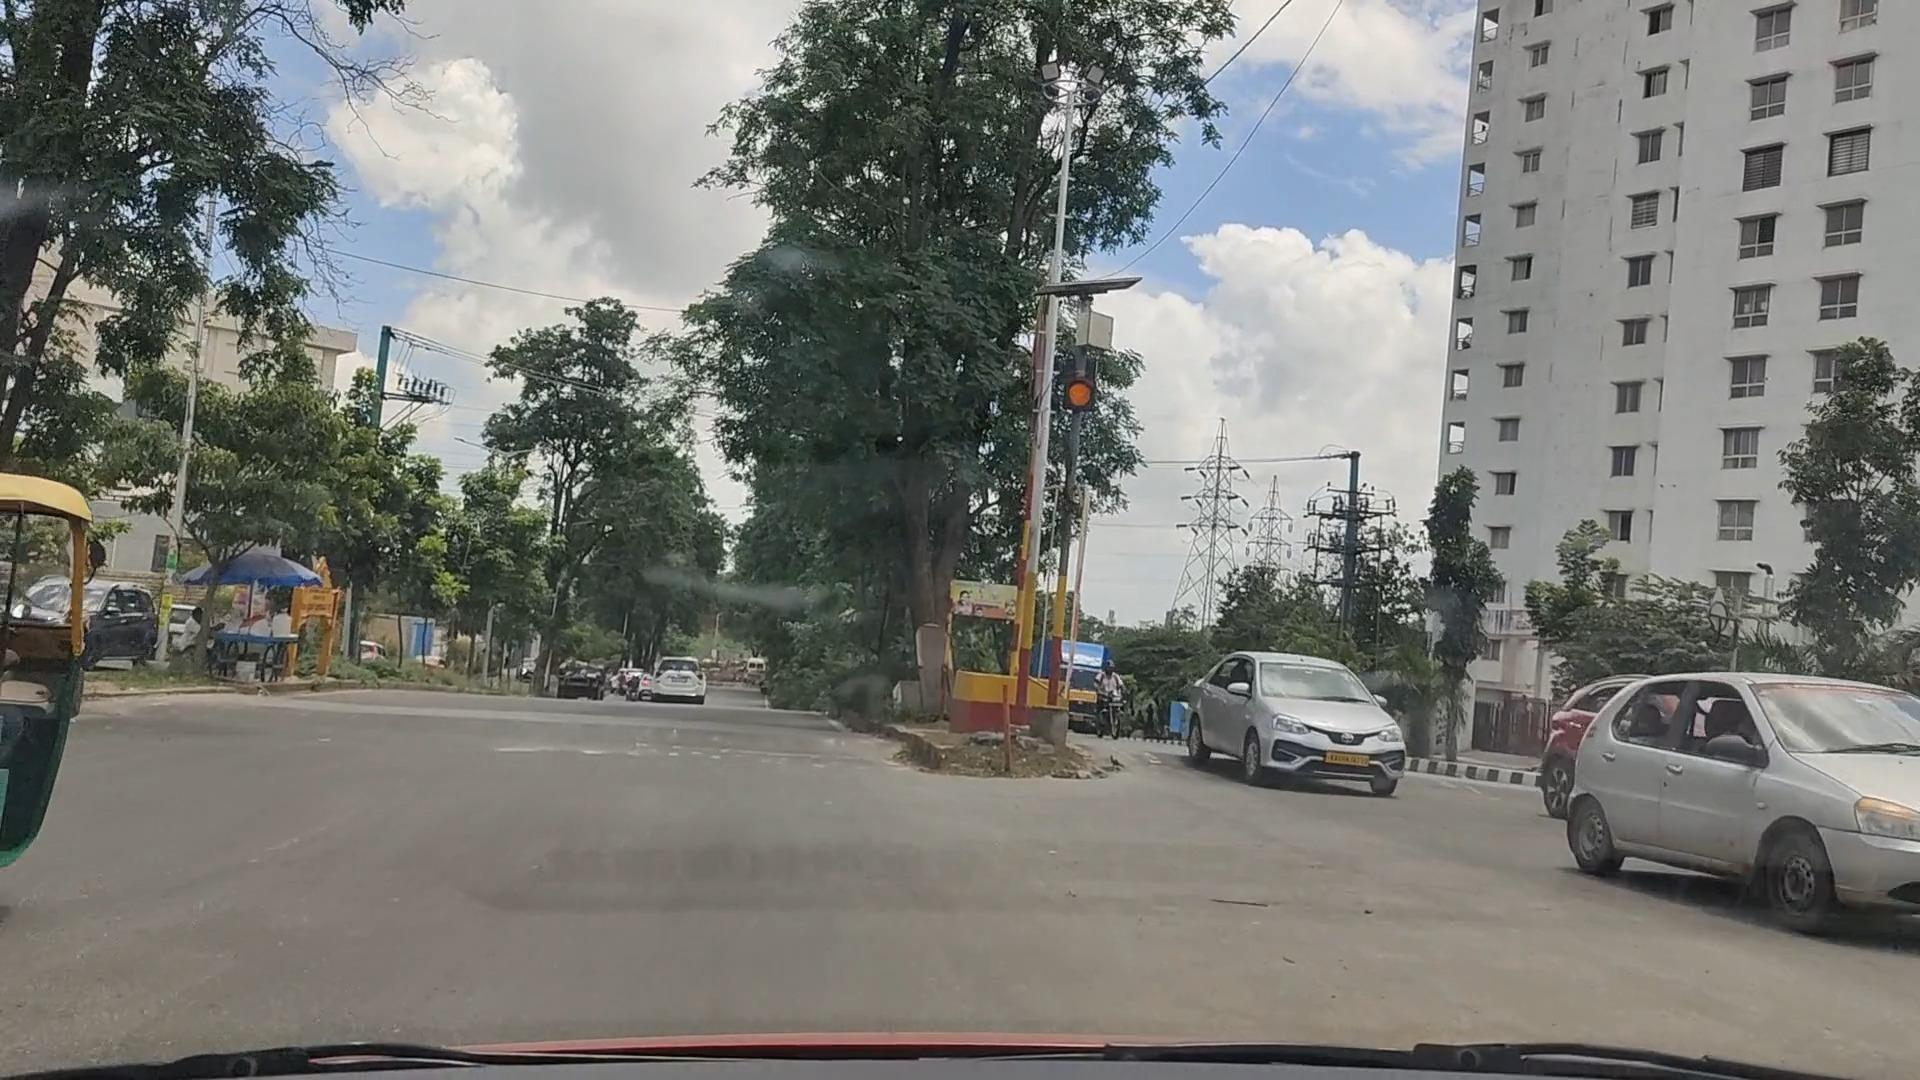LMV: (1571, 667, 1920, 909), (1179, 632, 1404, 791)
